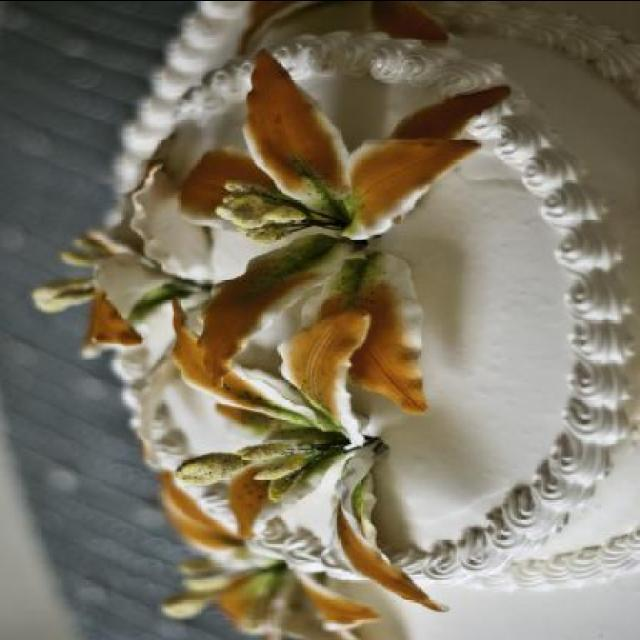Cake: (106, 0, 640, 593)
